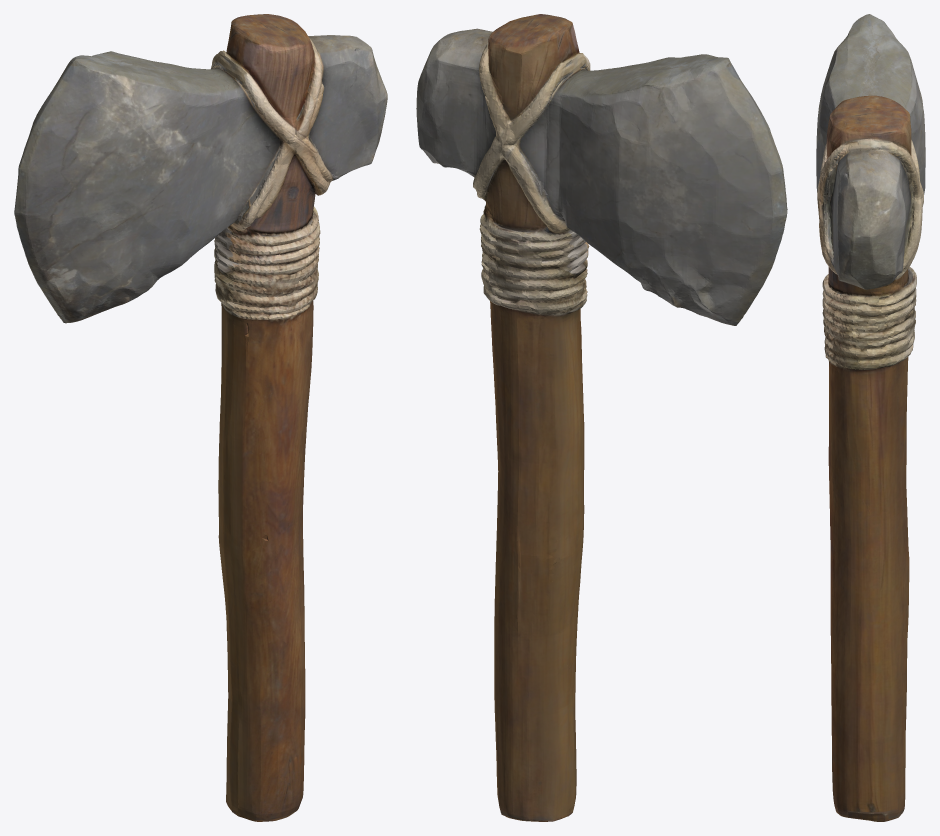
The model's file is StoneAxe.fbx.
The picture shows the model from 3 angles, left to right: view 1: azimuth 30°, elevation 25°; view 2: azimuth 150°, elevation 25°; view 3: azimuth 270°, elevation 25°; orthographic projection. The views are drawn at different scales.
Parts seen in each view (by area): view 1: temp; view 2: temp; view 3: temp.
Part boxes in pixels (x1,y1,x2,y2): temp: [14, 14, 387, 821]; temp: [416, 14, 787, 821]; temp: [816, 14, 925, 821].
Size of the model in its own units: 96.33 by 199 by 27.61.
Materials: 1 (1 with a texture image).
